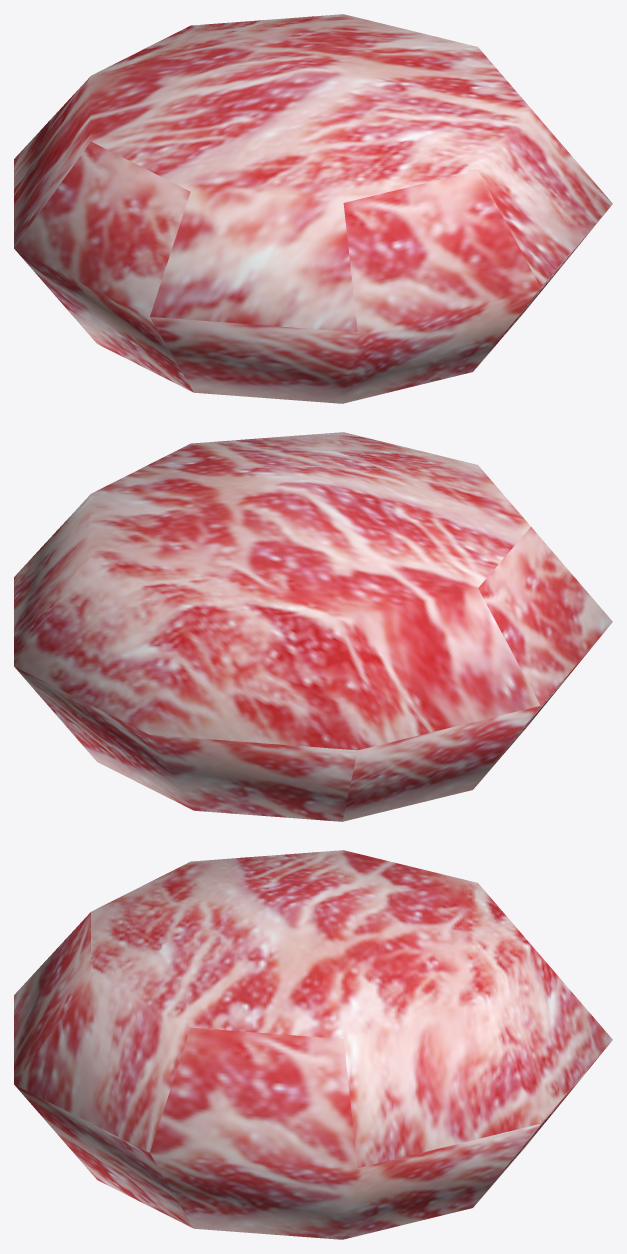
3 views of the same model, one above another, from view 1: azimuth 30°, elevation 25°; view 2: azimuth 150°, elevation 25°; view 3: azimuth 270°, elevation 25° (orthographic).
Visible parts, largest first — view 1: SM_肉块; view 2: SM_肉块; view 3: SM_肉块.
Boxes of the visible parts, x1,y1,x2,y2 form: SM_肉块: [14, 14, 612, 403]; SM_肉块: [14, 432, 612, 821]; SM_肉块: [14, 850, 612, 1239].
Size of the model in its own units: 5 by 4.92 by 2.62.
